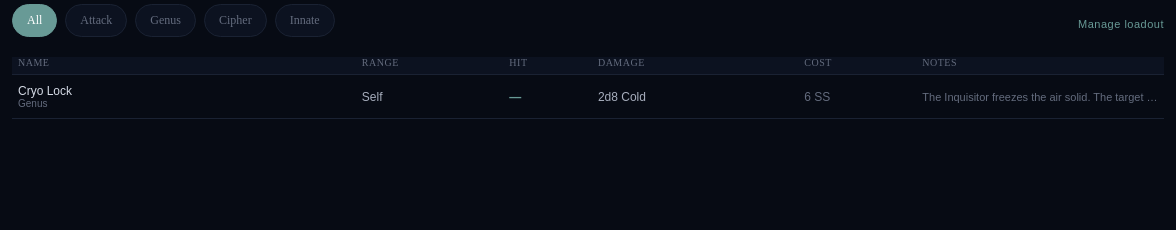
Test case: spending what an ability costs › says nothing extra for an undeclared ability the pool covers
Click the button with class "act-row". click: click(45, 91)
box: [12, 75, 1164, 118]
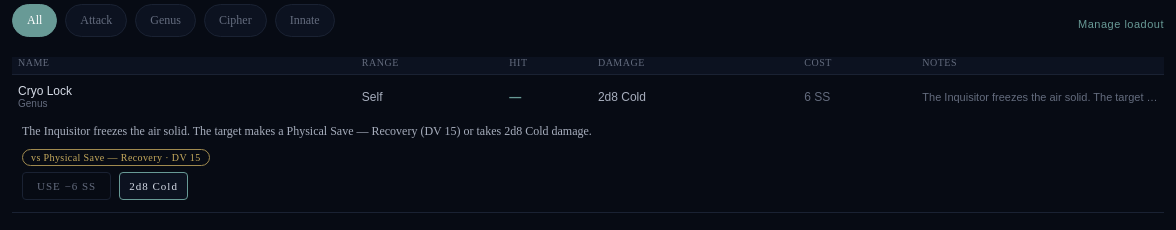
Result: the button with class "ghost-btn" reads "Use −6 SS" at [22, 172, 111, 200]
Result: the button with class "ghost-btn" is enabled at [22, 172, 111, 200]
